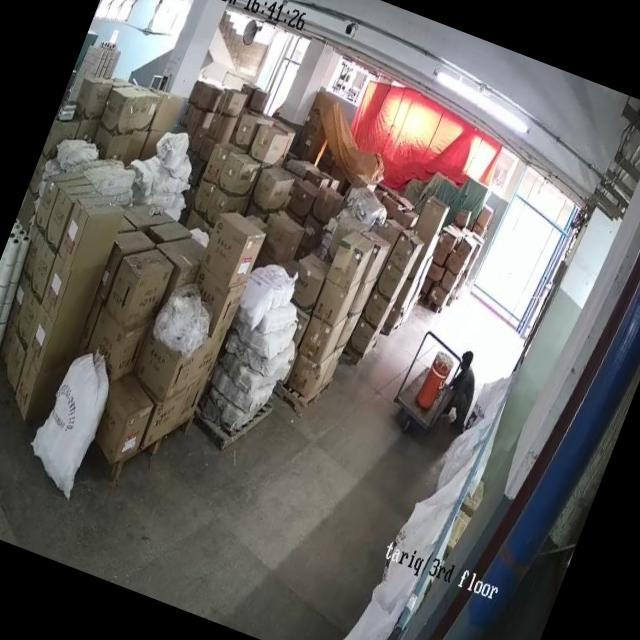person: (436, 348, 492, 429)
